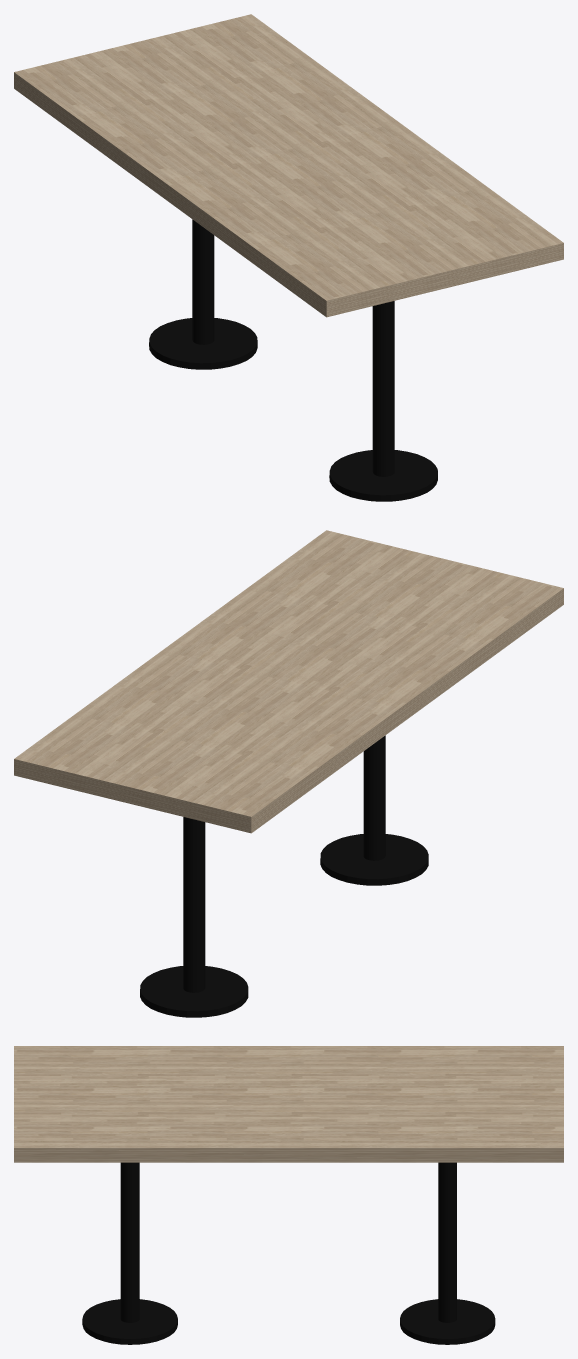
Rendered from table.gltf.
3 views of the same model, one above another, from view 1: azimuth 30°, elevation 25°; view 2: azimuth 150°, elevation 25°; view 3: azimuth 270°, elevation 25° (orthographic). The views are drawn at different scales.
Parts seen in each view (by area): view 1: stolik.001, stolik; view 2: stolik.001, stolik; view 3: stolik.001, stolik.
Boxes of the visible parts, x1,y1,x2,y2 form: stolik.001: (14, 14, 563, 317); stolik: (149, 219, 437, 501); stolik.001: (14, 530, 563, 833); stolik: (140, 735, 428, 1017); stolik.001: (14, 1046, 563, 1162); stolik: (82, 1162, 495, 1344).
Size of the model in its own units: 0.7498 by 0.7737 by 1.71.
2 materials, 1 textured.
